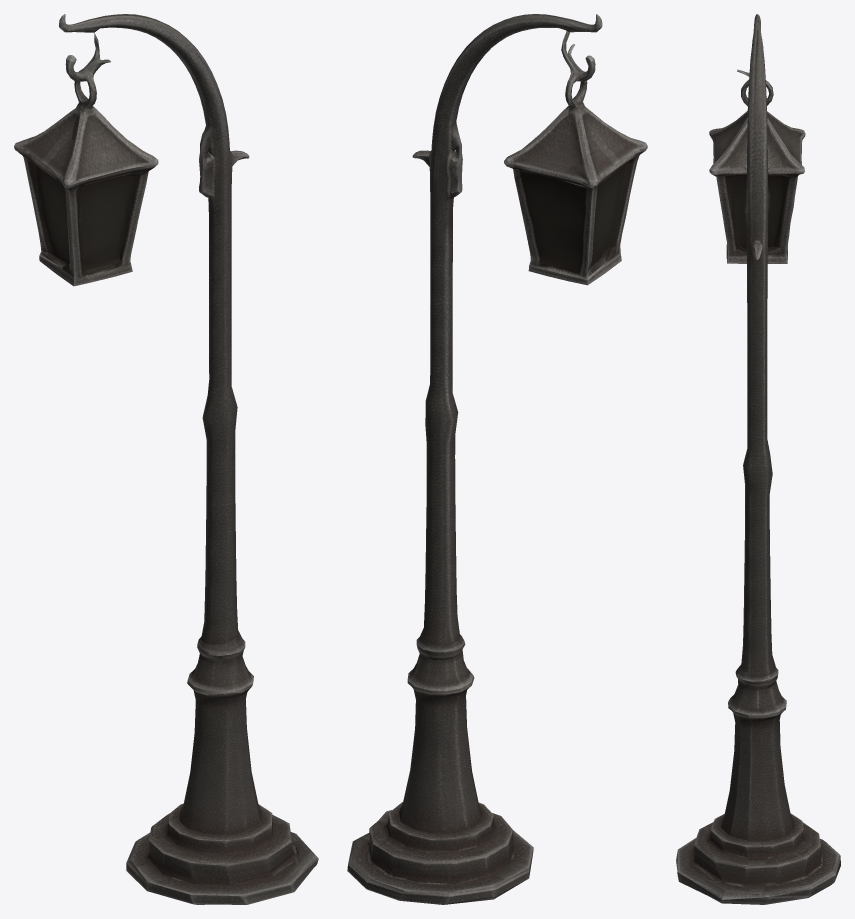
The model's file is lantern-post-v3-meshy.glb.
3 renders of one model, left to right at view 1: azimuth 30°, elevation 25°; view 2: azimuth 150°, elevation 25°; view 3: azimuth 270°, elevation 25°, orthographic. The views are drawn at different scales.
Size of the model in its own units: 0.5854 by 1.89 by 0.3581.
Materials: 1 (1 with a texture image).
